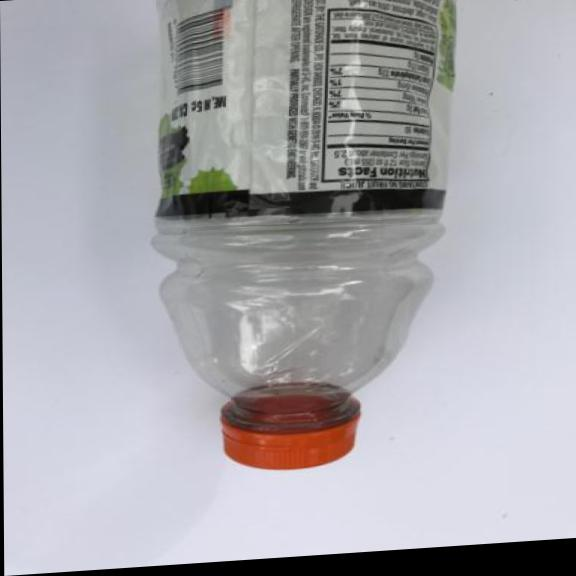Plastik: (135, 0, 477, 485)
